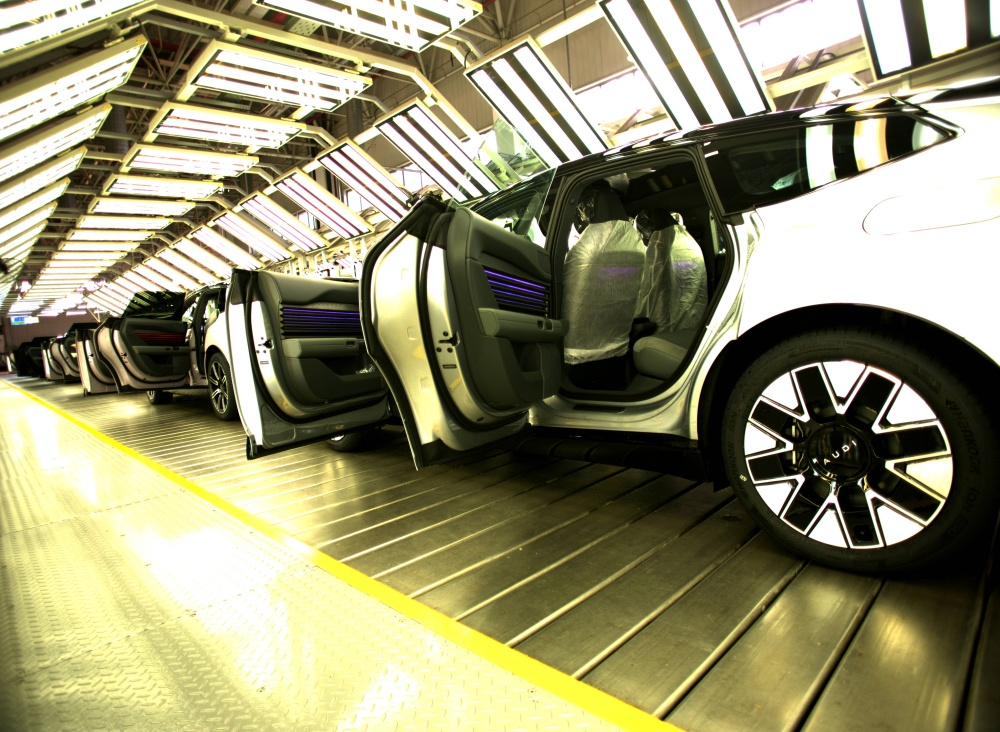armrest_color: (476, 306, 566, 342), (281, 335, 363, 360)
panel_color: (480, 262, 553, 318), (280, 299, 358, 334)
